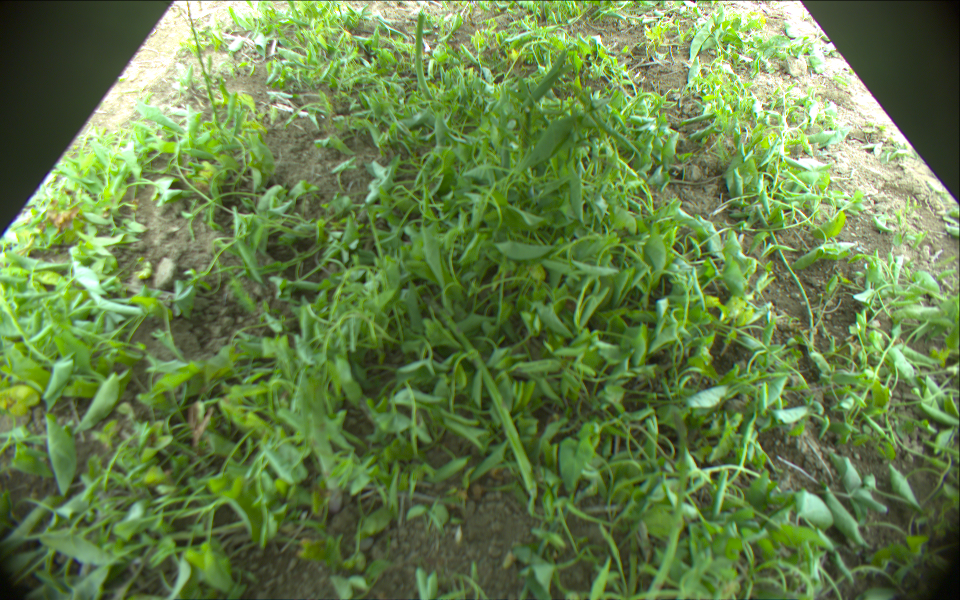aspa: (420, 297, 541, 492), (642, 409, 686, 600), (415, 13, 429, 100)
